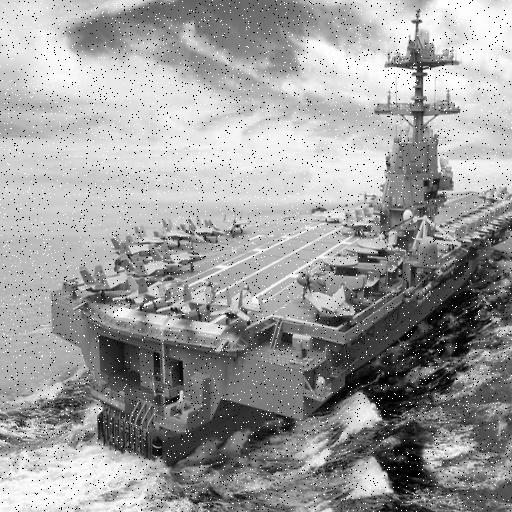Portanaves: (51, 1, 512, 464)
